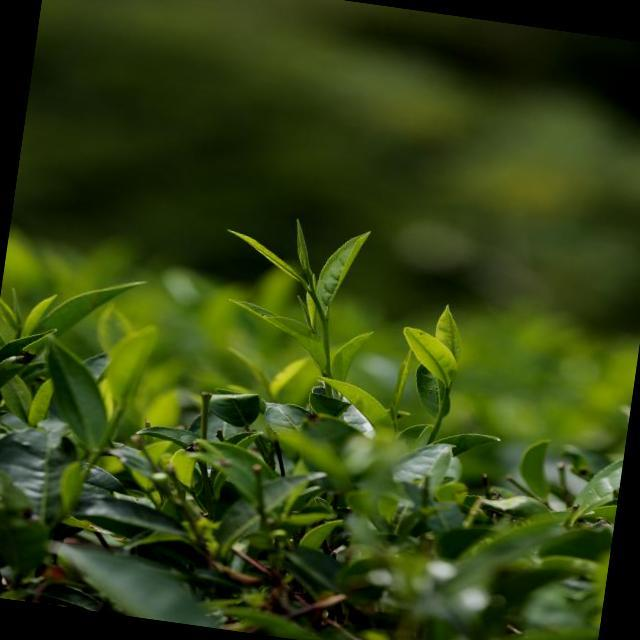Stem: (308, 288, 319, 303)
